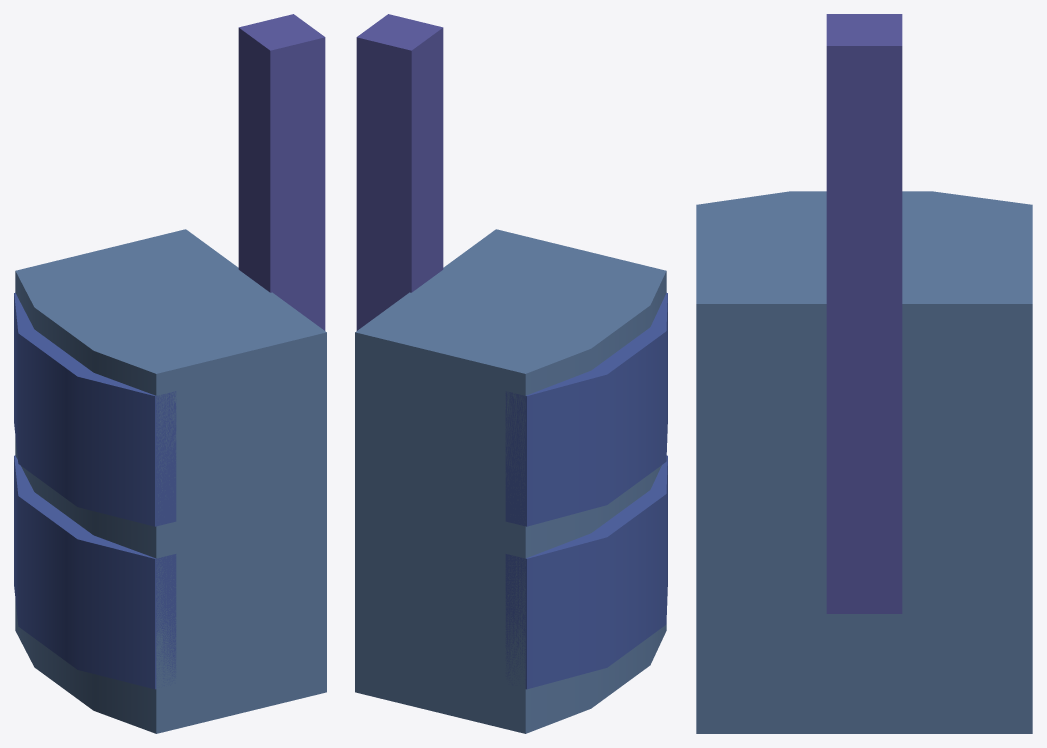
File: Speaker.fbx
3 renders of one model, left to right at view 1: azimuth 30°, elevation 25°; view 2: azimuth 150°, elevation 25°; view 3: azimuth 270°, elevation 25°, orthographic. The views are drawn at different scales.
Visible parts, largest first — view 1: pCube43; view 2: pCube43; view 3: pCube43.
Boxes of the visible parts, x1=… form: pCube43: x1=14, y1=14, x2=326, y2=733; pCube43: x1=355, y1=14, x2=667, y2=733; pCube43: x1=696, y1=14, x2=1032, y2=733.
Bounding box in the file's own units: 0.2846 × 0.6225 × 0.2641.
